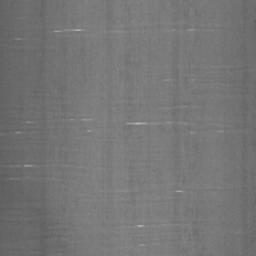Waist folding: (126, 104, 245, 135), (52, 24, 241, 35), (0, 163, 61, 182), (134, 224, 174, 248), (0, 120, 40, 136), (208, 66, 240, 76), (99, 191, 137, 199), (174, 189, 221, 195), (79, 118, 93, 122)
